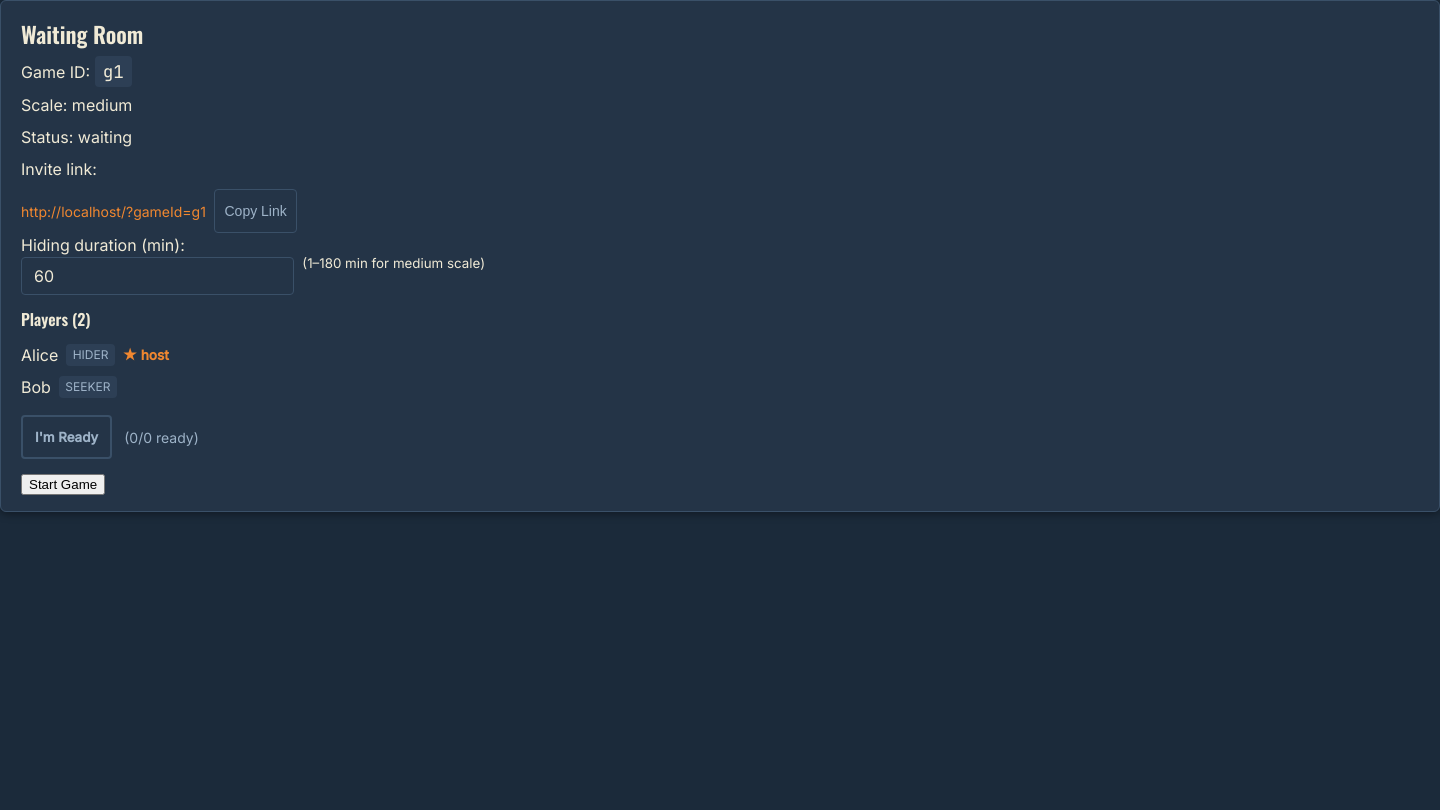
Test: WaitingRoom Start Game button › clears any previous error on a new start attempt
This screenshot has width=1440, height=810.
Click the button "Start Game".
click(63, 484)  # box [21, 474, 105, 495]
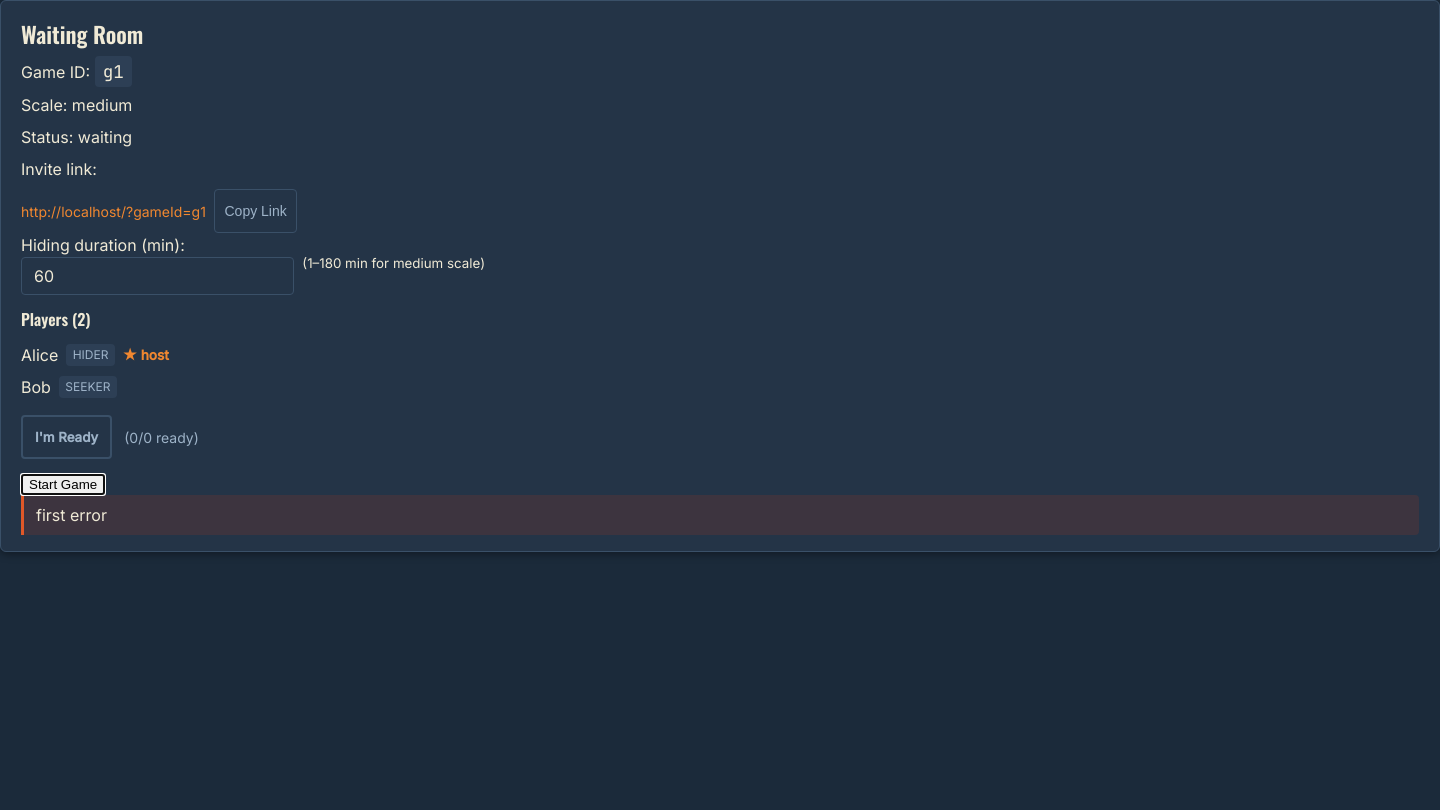
Expected: the message "first error" is shown, [21, 495, 1419, 535]
Click the button "Start Game".
click(63, 484)  # box [21, 474, 105, 495]
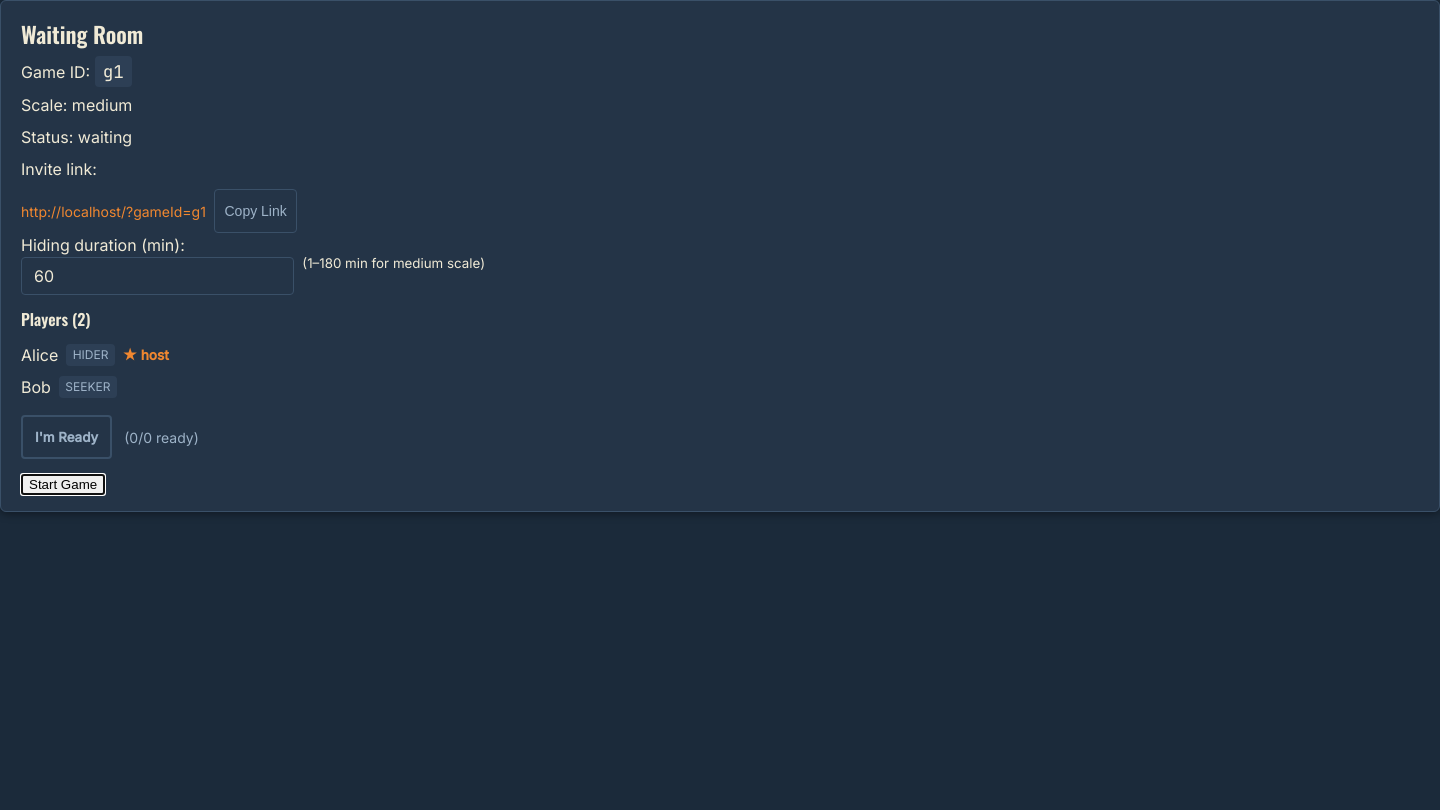
Expected: the message "first error" is gone
